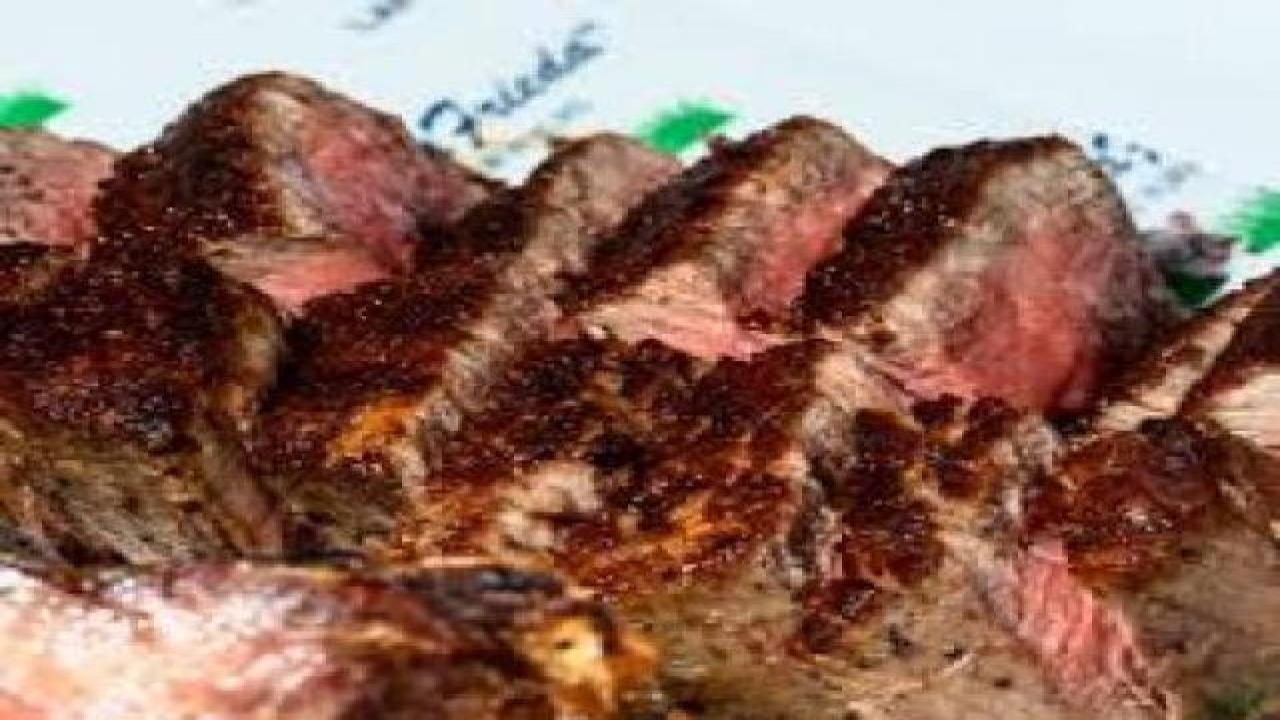done: (60, 63, 1243, 672)
